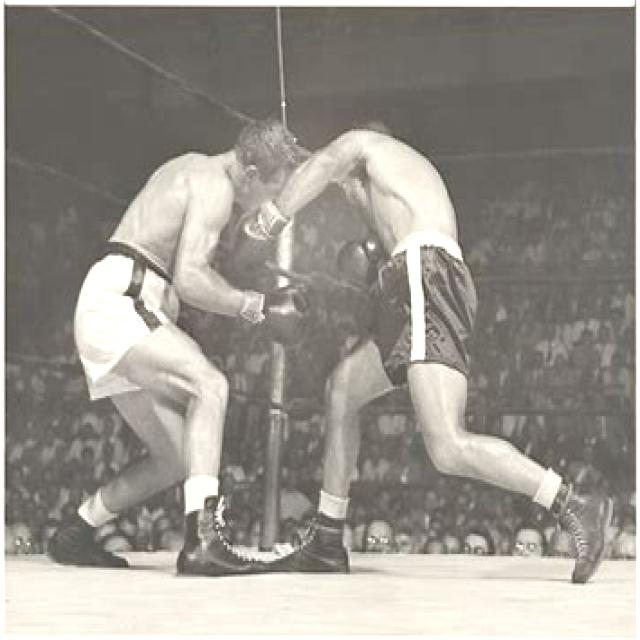fight: (67, 64, 579, 513)
